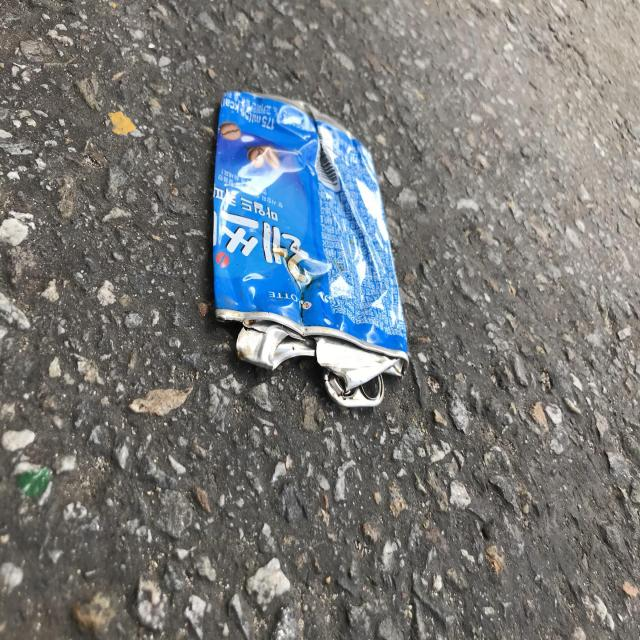can: (213, 91, 409, 407)
